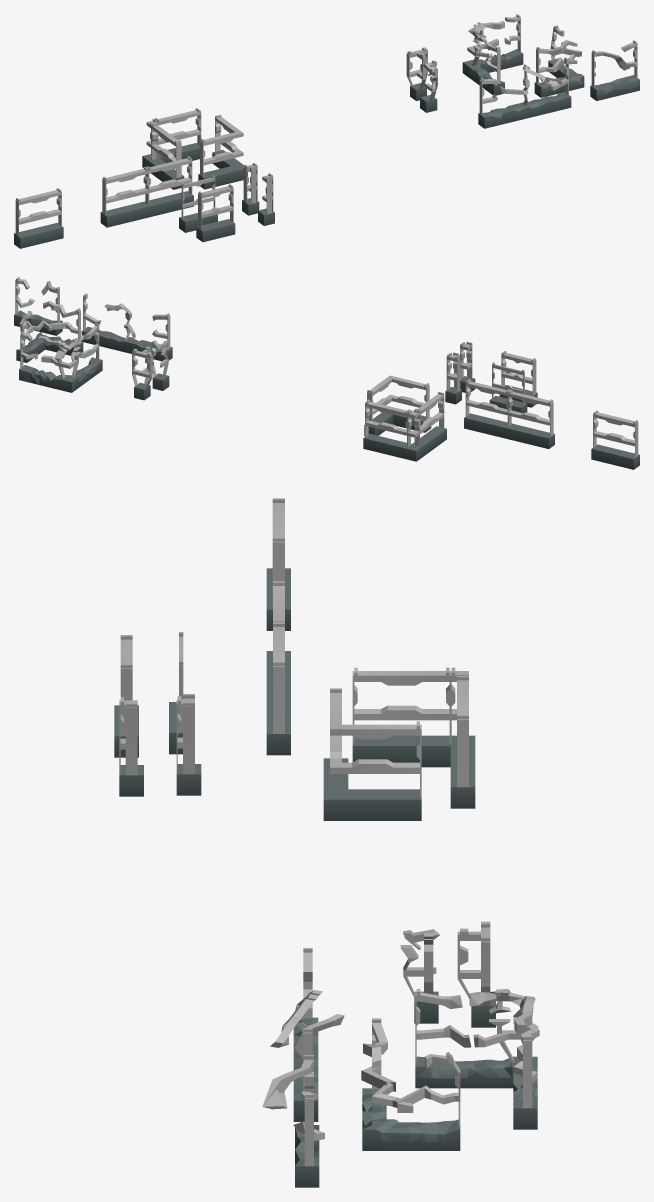
The model's file is Barandas01.fbx.
3 views of the same model, one above another, from view 1: azimuth 30°, elevation 25°; view 2: azimuth 150°, elevation 25°; view 3: azimuth 270°, elevation 25° (orthographic). The views are drawn at different scales.
Parts seen in each view (by area): view 1: Baranda004, Baranda008, Baranda010, Baranda006, Baranda005, Baranda03, Baranda009, Baranda012, Baranda014, Baranda016, Baranda015, Baranda013 (+2 smaller); view 2: Baranda006, Baranda004, Baranda010, Baranda008, Baranda03, Baranda005, Baranda009, Baranda012, Baranda014, Baranda015, Baranda016, Baranda013 (+2 smaller); view 3: Baranda006, Baranda010, Baranda005, Baranda009, Baranda004, Baranda008, Baranda012, Baranda015, Baranda013, Baranda011, Baranda007, Baranda03 (+1 smaller).
Part boxes in pixels (x1,y1,x2,y2): Baranda004: (100, 156, 193, 227); Baranda008: (478, 57, 571, 128); Baranda010: (462, 14, 523, 95); Baranda006: (142, 108, 201, 189); Baranda005: (198, 114, 247, 189); Baranda03: (14, 188, 63, 248); Baranda009: (534, 25, 584, 97); Baranda012: (590, 40, 639, 100); Baranda014: (196, 184, 235, 242); Baranda016: (179, 175, 217, 232); Baranda015: (406, 47, 427, 100); Baranda013: (242, 162, 259, 215); Baranda006: (363, 392, 446, 461); Baranda004: (464, 379, 554, 448); Baranda010: (19, 323, 102, 392); Baranda008: (81, 293, 172, 361); Baranda03: (591, 410, 639, 469); Baranda005: (364, 375, 431, 435); Baranda009: (16, 301, 83, 362); Baranda012: (14, 277, 62, 335); Baranda014: (499, 351, 537, 407); Baranda015: (132, 346, 152, 400); Baranda016: (489, 362, 527, 412); Baranda013: (445, 352, 461, 404); Baranda006: (352, 667, 475, 808); Baranda010: (415, 989, 539, 1129); Baranda005: (323, 688, 421, 820); Baranda009: (361, 1018, 460, 1150); Baranda004: (266, 581, 290, 755); Baranda008: (270, 948, 344, 1121); Baranda012: (262, 1055, 324, 1187); Baranda015: (457, 921, 495, 1027); Baranda013: (176, 694, 201, 795); Baranda011: (400, 929, 439, 1023); Baranda007: (119, 697, 143, 796); Baranda03: (266, 498, 290, 630).
Bounding box in the file's own units: 284 × 20.93 × 85.42.
Materials: 1 (1 with a texture image).
